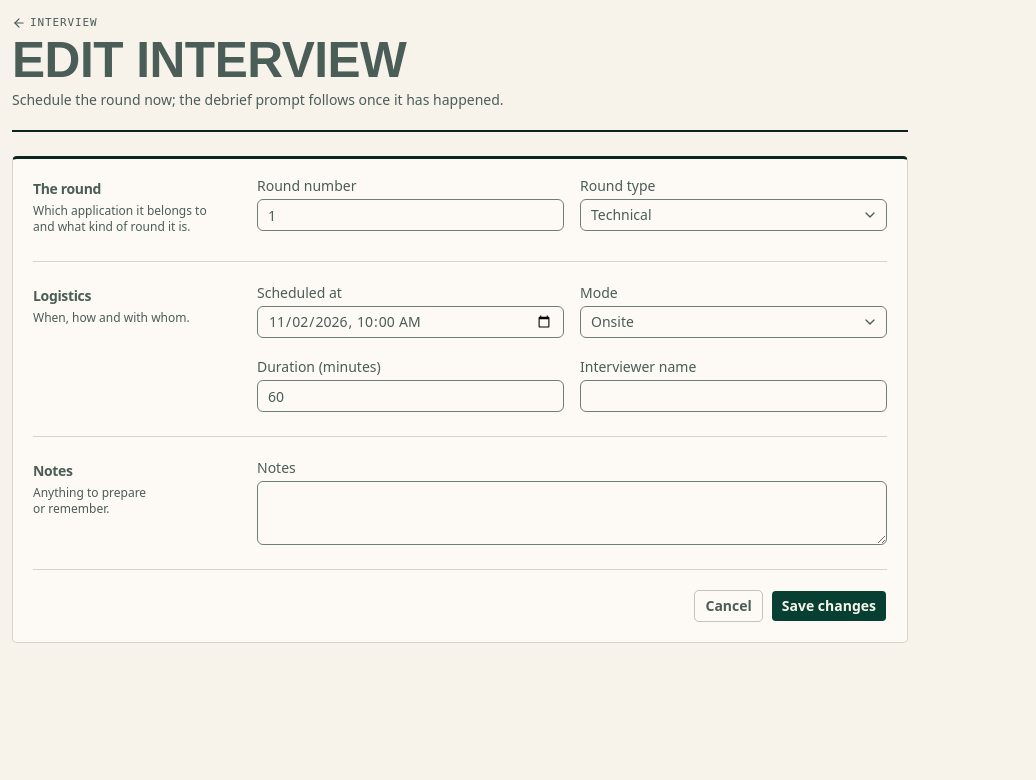
Scenario: InterviewFormPage › shows the server error for the scheduled date under that field
The width and height of the screenshot is (1036, 780).
Step 1. Click the button "Save changes" → (829, 606), box x1=771 y1=590 x2=887 y2=622
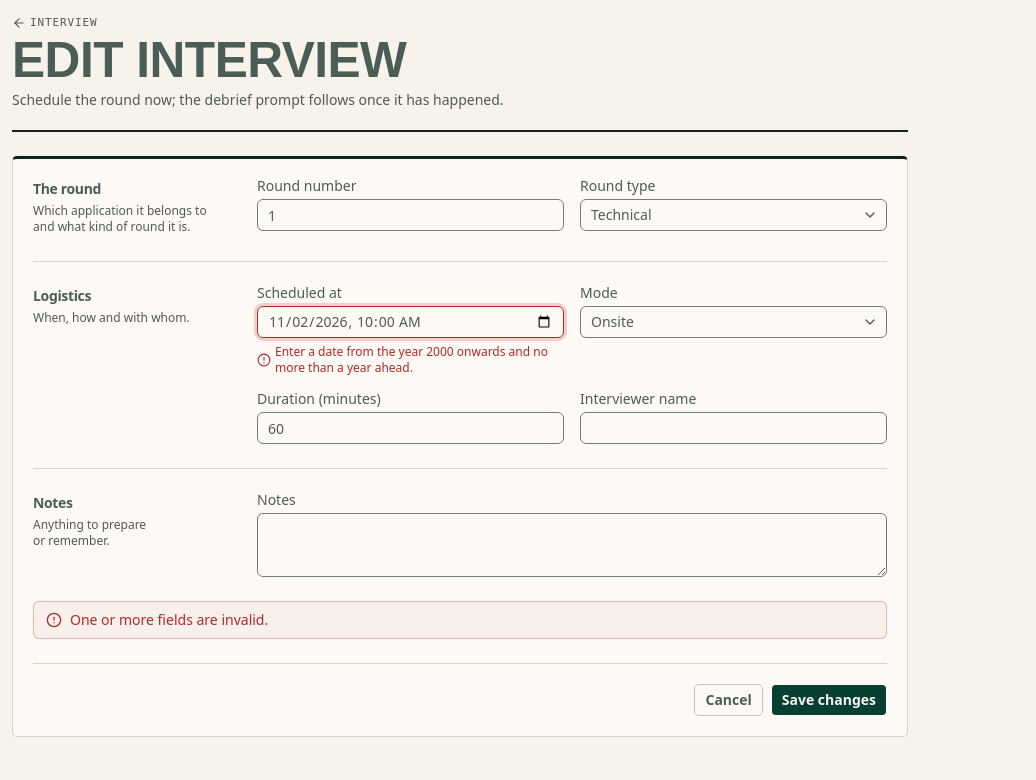
Expected: the text "Enter a date from the year 2000 onwards and no more than a year ahead." is shown, x1=257 y1=344 x2=564 y2=376
